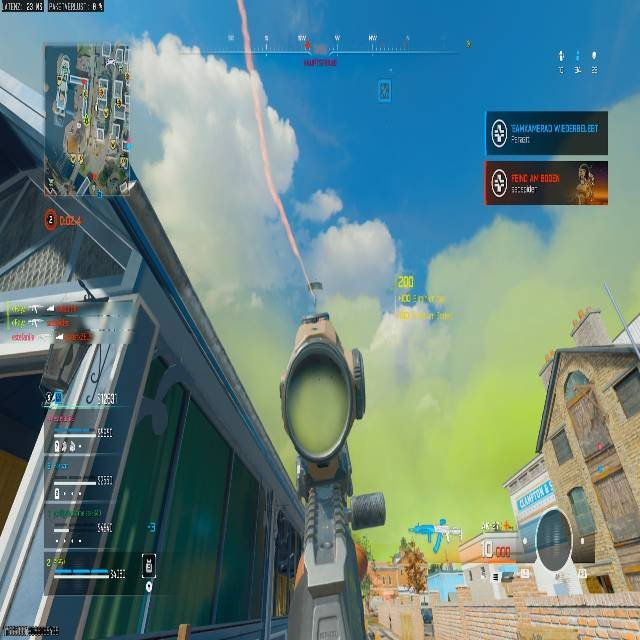player: (388, 538, 433, 639)
